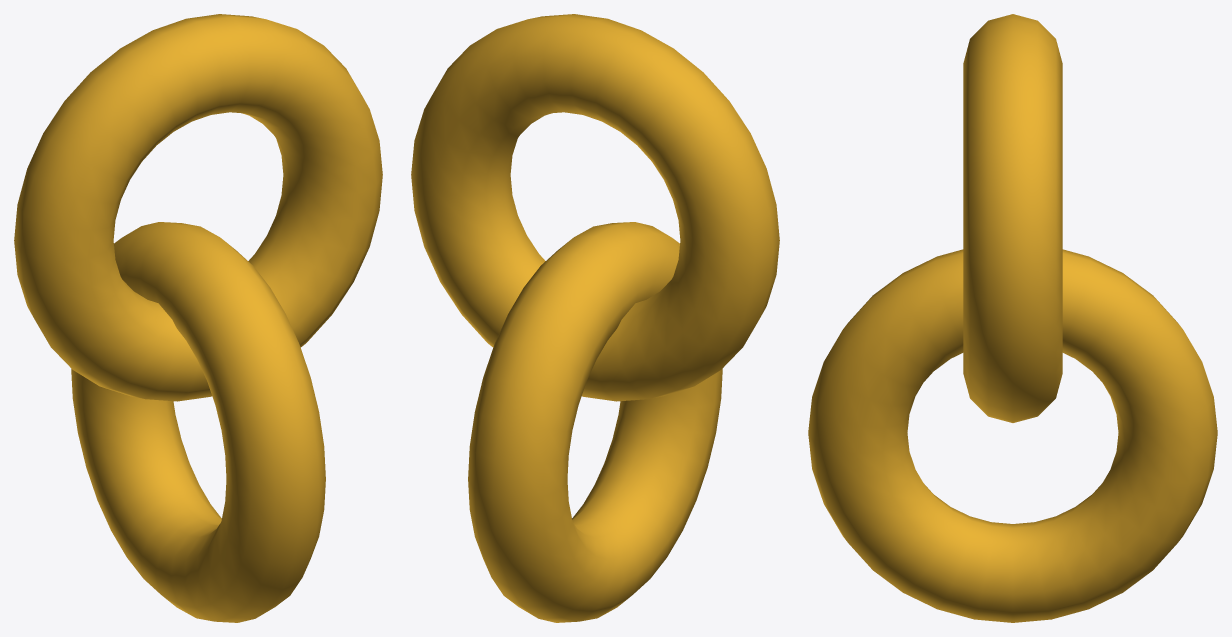
Rendered from GoldHangLoopRings.fbx.
3 renders of one model, left to right at view 1: azimuth 30°, elevation 25°; view 2: azimuth 150°, elevation 25°; view 3: azimuth 270°, elevation 25°, orthographic.
Parts seen in each view (by area): view 1: GoldLoopHang, GoldLoopHang.001; view 2: GoldLoopHang, GoldLoopHang.001; view 3: GoldLoopHang.001, GoldLoopHang.
Boxes of the visible parts, bbox=[...] form: GoldLoopHang: bbox=[14, 14, 382, 401]; GoldLoopHang.001: bbox=[71, 222, 325, 622]; GoldLoopHang: bbox=[411, 14, 779, 401]; GoldLoopHang.001: bbox=[468, 222, 722, 622]; GoldLoopHang.001: bbox=[808, 249, 1217, 622]; GoldLoopHang: bbox=[963, 14, 1062, 422].
Bounding box in the file's own units: 33 × 33 × 52.05.
